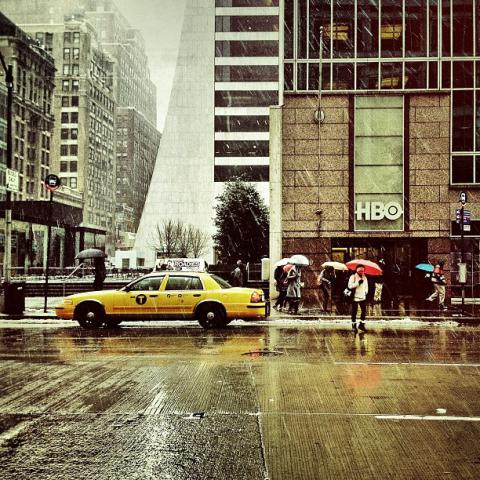car: (54, 271, 266, 330)
